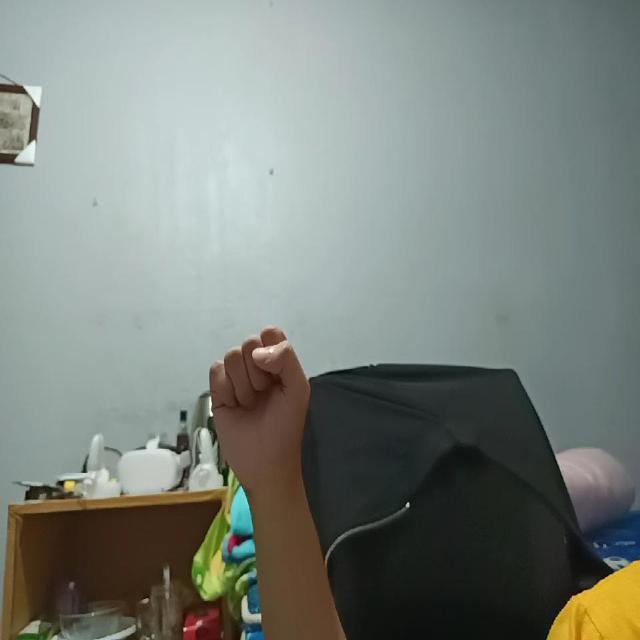fist: (200, 293, 312, 507)
